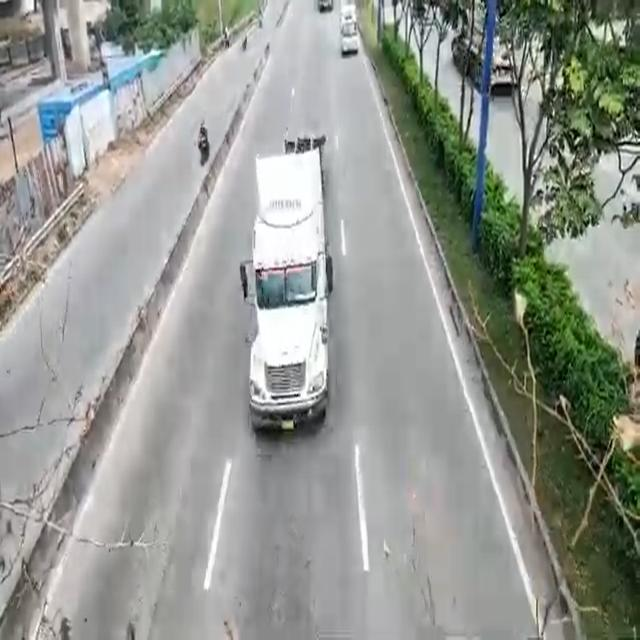motor: (193, 114, 211, 172)
truck: (255, 133, 333, 432), (339, 6, 363, 64)
